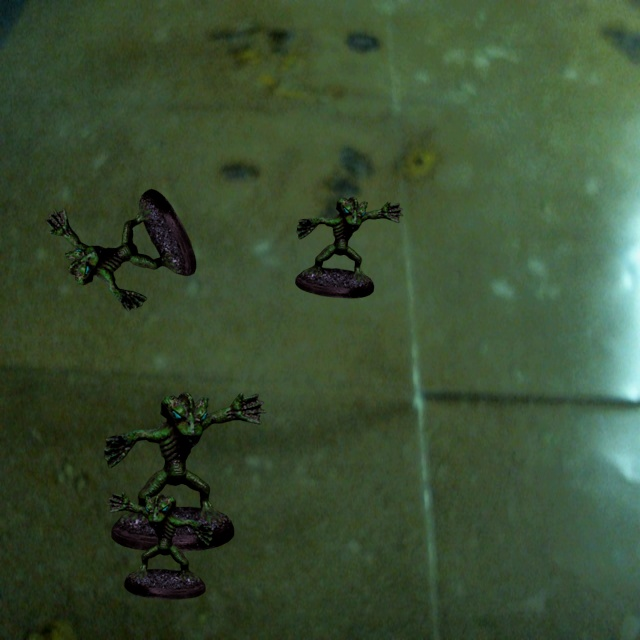pieza_juego: (104, 392, 265, 551), (45, 189, 196, 310), (106, 492, 212, 599), (295, 197, 403, 298)
